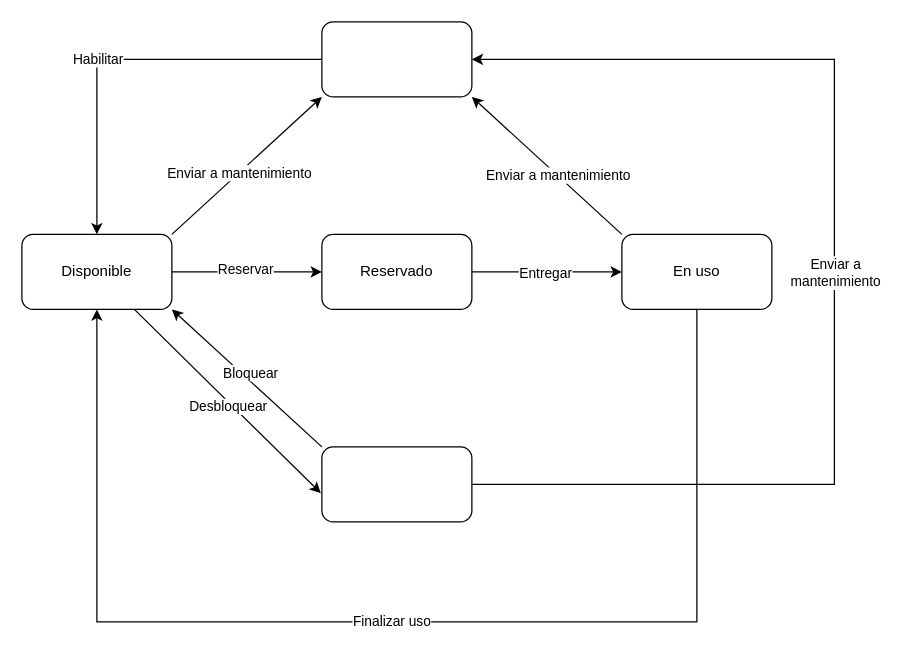
Some shapes in this 901 by 654 pixel diagram are drawn without their labels. The centre of each missing label's shape, as x and y in pixels:
Bloqueo academico: pixel 396 484
En mantenimiento: pixel 396 59
